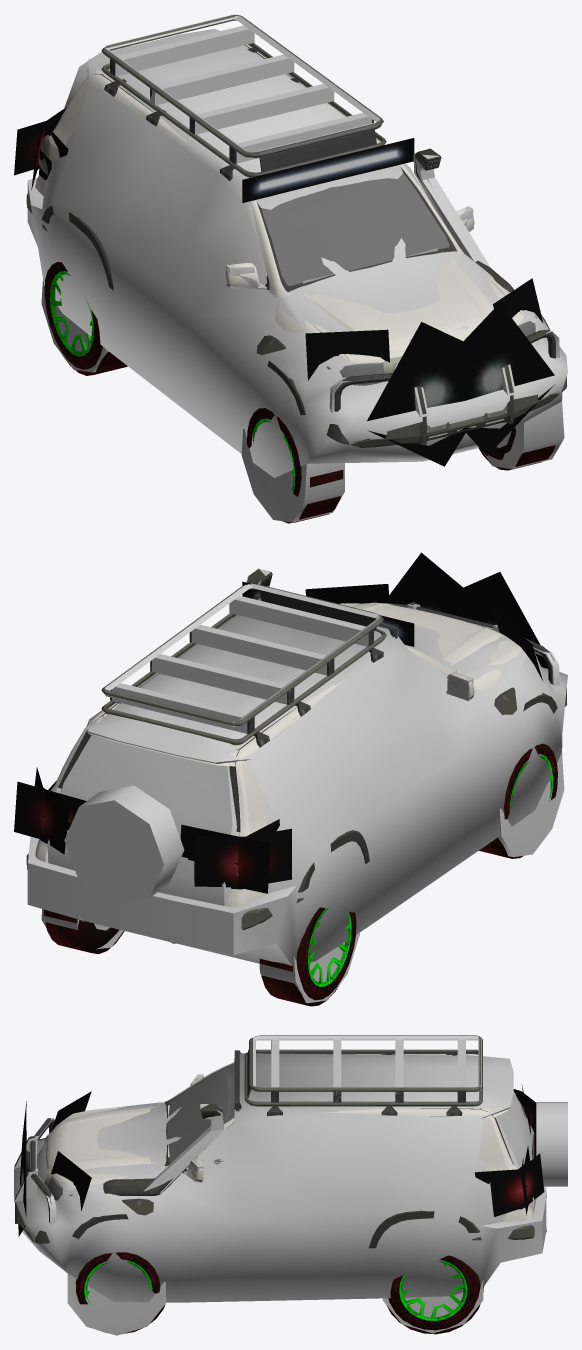
File: P_car-004_Suv2.fbx
3 views of the same model, one above another, from view 1: azimuth 30°, elevation 25°; view 2: azimuth 150°, elevation 25°; view 3: azimuth 270°, elevation 25° (orthographic). The views are drawn at different scales.
Parts seen in each view (by area): view 1: M_Car-004_ShadowForm_Suv2_01, M_Car-004_FrontFlares_Suv2_01 (1), M_Car-004_Details_Suv2_01, M_Car-004_Glass_Suv2_01, M_Car-004_Body_Suv2_01, M_CarWheel-001_AP (1) (×2), M_CarWheel-001_AP_01 (1) (×2), M_Car-004_BackFlaresBrake_Suv2_01 (1), M_CarTire-001_AP_01 (1); view 2: M_Car-004_ShadowForm_Suv2_01, M_Car-004_Details_Suv2_01, M_Car-004_BackFlaresBrake_Suv2_01 (1), M_Car-004_Body_Suv2_01, M_Car-004_FrontFlares_Suv2_01 (1), M_CarWheel-001_AP_01 (1) (×2), M_CarWheel-001_AP (1); view 3: M_Car-004_ShadowForm_Suv2_01, M_Car-004_Details_Suv2_01, M_Car-004_Body_Suv2_01, M_Car-004_Glass_Suv2_01, M_Car-004_BackFlaresBrake_Suv2_01 (1), M_Car-004_FrontFlares_Suv2_01 (1), M_CarWheel-001_AP (1) (×2), M_CarWheel-001_AP_01 (1) (×2), M_CarTire-001_AP (1), M_Car-004_BackFlares_Suv2_01 (1), M_CarTire-001_AP_01 (1).
Boxes of the visible parts, box(x1,y1,x2,y2) form: M_Car-004_ShadowForm_Suv2_01: box(27, 14, 567, 522); M_Car-004_FrontFlares_Suv2_01 (1): box(242, 138, 555, 466); M_Car-004_Details_Suv2_01: box(26, 14, 567, 447); M_Car-004_Glass_Suv2_01: box(39, 134, 536, 385); M_Car-004_Body_Suv2_01: box(35, 44, 524, 363); M_CarWheel-001_AP (1) (×2): box(73, 310, 343, 523); M_CarWheel-001_AP_01 (1) (×2): box(44, 262, 555, 470); M_Car-004_BackFlaresBrake_Suv2_01 (1): box(14, 107, 66, 190); M_CarTire-001_AP_01 (1): box(50, 271, 73, 353); M_Car-004_ShadowForm_Suv2_01: box(27, 568, 567, 1003); M_Car-004_Details_Suv2_01: box(26, 568, 566, 943); M_Car-004_BackFlaresBrake_Suv2_01 (1): box(14, 767, 292, 893); M_Car-004_Body_Suv2_01: box(35, 602, 522, 907); M_Car-004_FrontFlares_Suv2_01 (1): box(242, 552, 547, 680); M_CarWheel-001_AP_01 (1) (×2): box(259, 745, 536, 1006); M_CarWheel-001_AP (1): box(44, 909, 107, 953); M_Car-004_ShadowForm_Suv2_01: box(14, 1036, 567, 1335); M_Car-004_Details_Suv2_01: box(15, 1035, 546, 1248); M_Car-004_Body_Suv2_01: box(49, 1054, 533, 1221); M_Car-004_Glass_Suv2_01: box(47, 1067, 527, 1200); M_Car-004_BackFlaresBrake_Suv2_01 (1): box(490, 1083, 544, 1216); M_Car-004_FrontFlares_Suv2_01 (1): box(18, 1091, 91, 1236); M_CarWheel-001_AP (1) (×2): box(123, 1252, 483, 1334); M_CarWheel-001_AP_01 (1) (×2): box(75, 1252, 440, 1334); M_CarTire-001_AP (1): box(431, 1261, 467, 1320); M_Car-004_BackFlares_Suv2_01 (1): box(474, 1094, 530, 1183); M_CarTire-001_AP_01 (1): box(399, 1261, 439, 1320).
Size of the model in its own units: 2.32 by 2.42 by 5.4.
